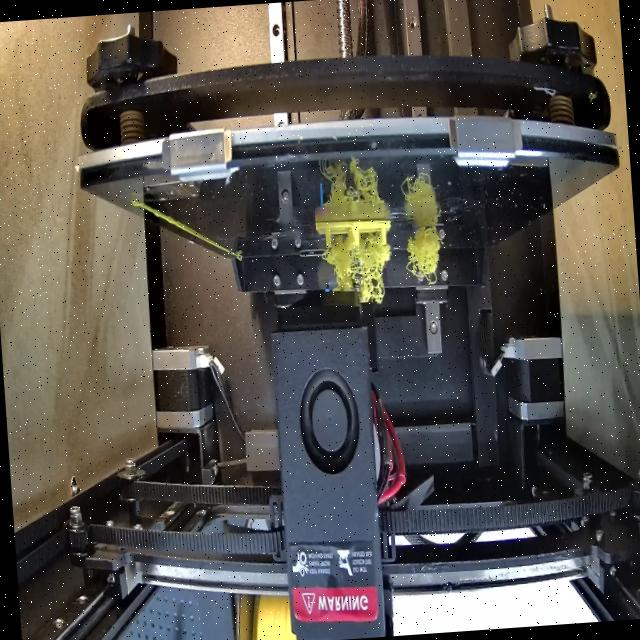spaghetti: (316, 232, 395, 310), (400, 222, 445, 288)
